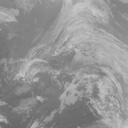cyclone: (45, 35, 110, 97)
